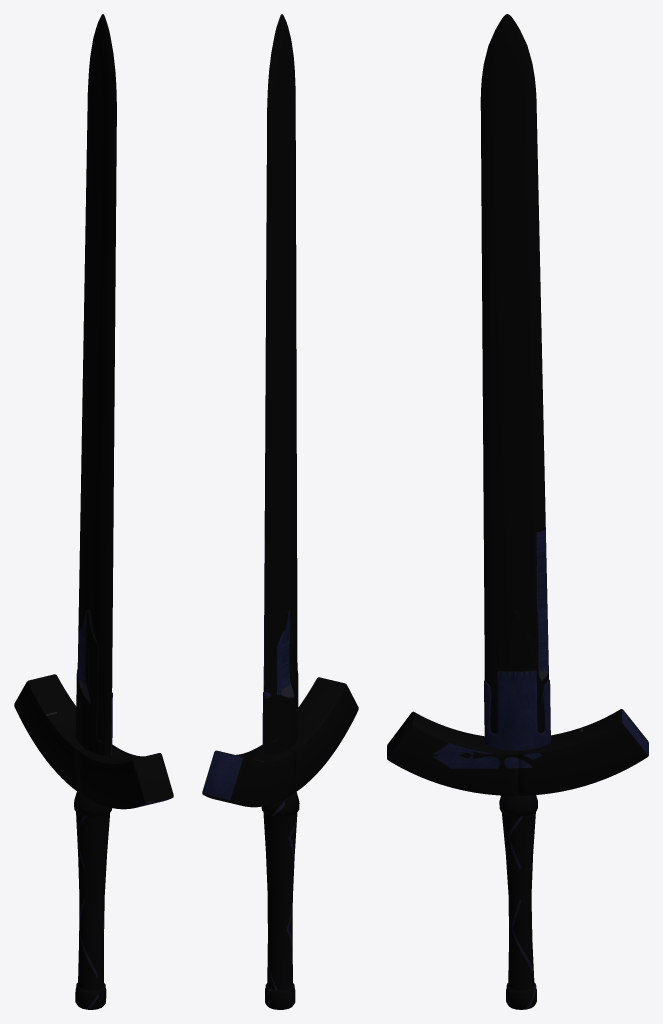
Rendered from sword3obj.obj.
3 views of the same model, side by side, from view 1: azimuth 30°, elevation 25°; view 2: azimuth 150°, elevation 25°; view 3: azimuth 270°, elevation 25° (orthographic).
Visible parts, largest first — view 1: SaberSword_13_-_Default_0; view 2: SaberSword_13_-_Default_0; view 3: SaberSword_13_-_Default_0.
Part boxes in pixels (left/top/right/bottom): SaberSword_13_-_Default_0: left=14, top=14, right=173, bottom=1009; SaberSword_13_-_Default_0: left=202, top=14, right=358, bottom=1009; SaberSword_13_-_Default_0: left=387, top=14, right=648, bottom=1009.
Size of the model in its own units: 10.57 by 297 by 71.11.
2 materials, 1 textured.
